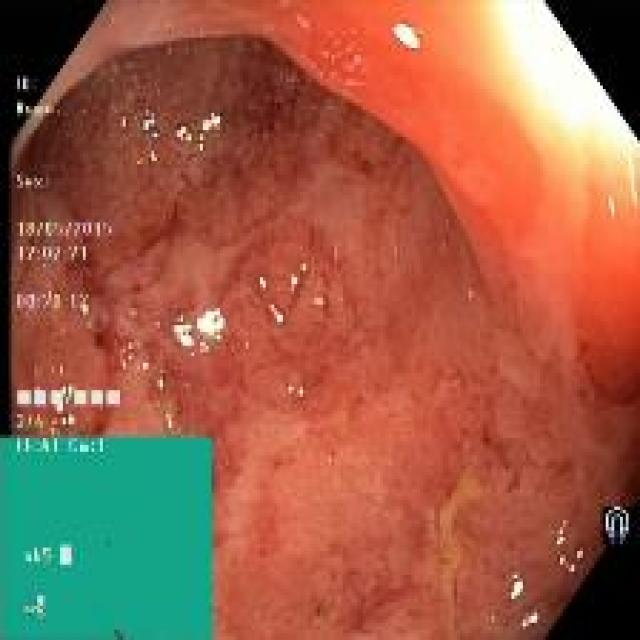ulcerative-colitis-grade-1: (12, 37, 636, 640)
